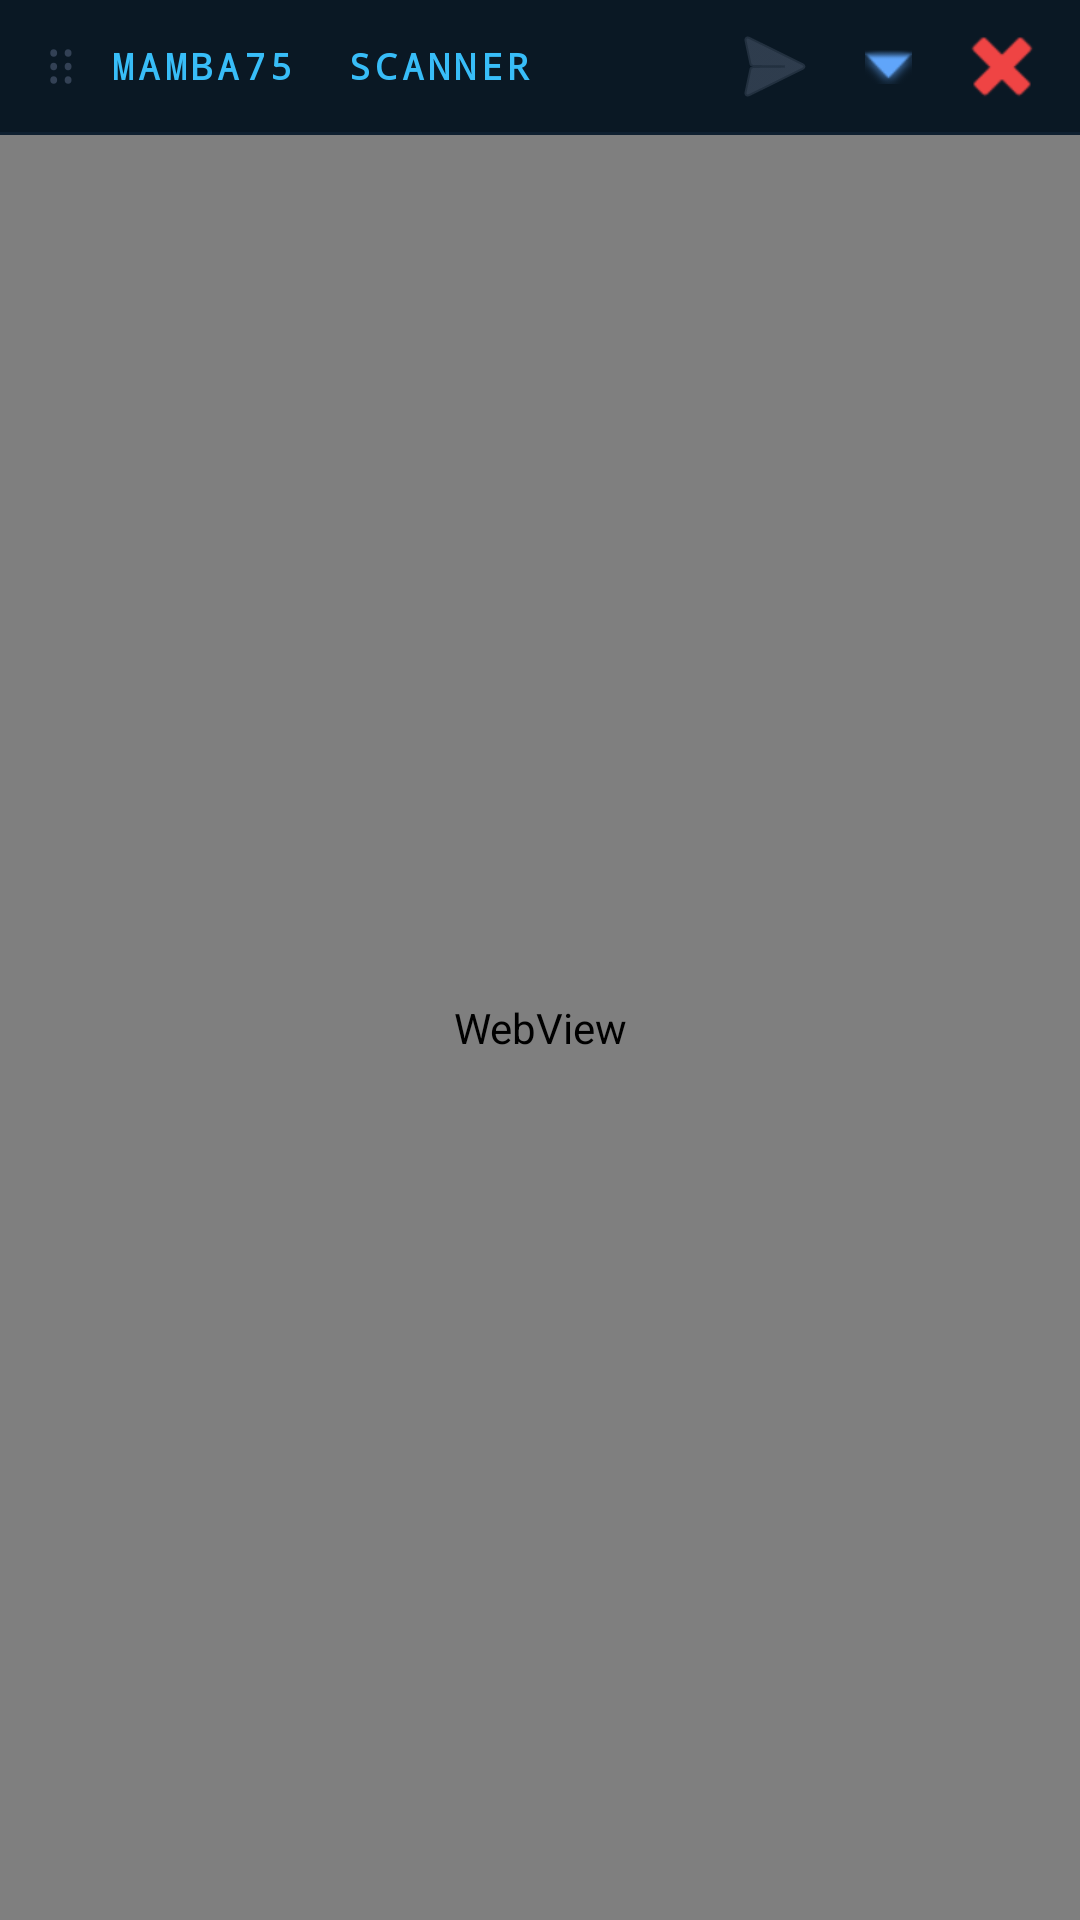

Locate icon controls on the screen. Image size 1080px×1920px, boxes as BBox(x1, y1, x2, y2).
Close scanner: BBox(971, 37, 1033, 96)
Minimize: BBox(865, 51, 912, 82)
